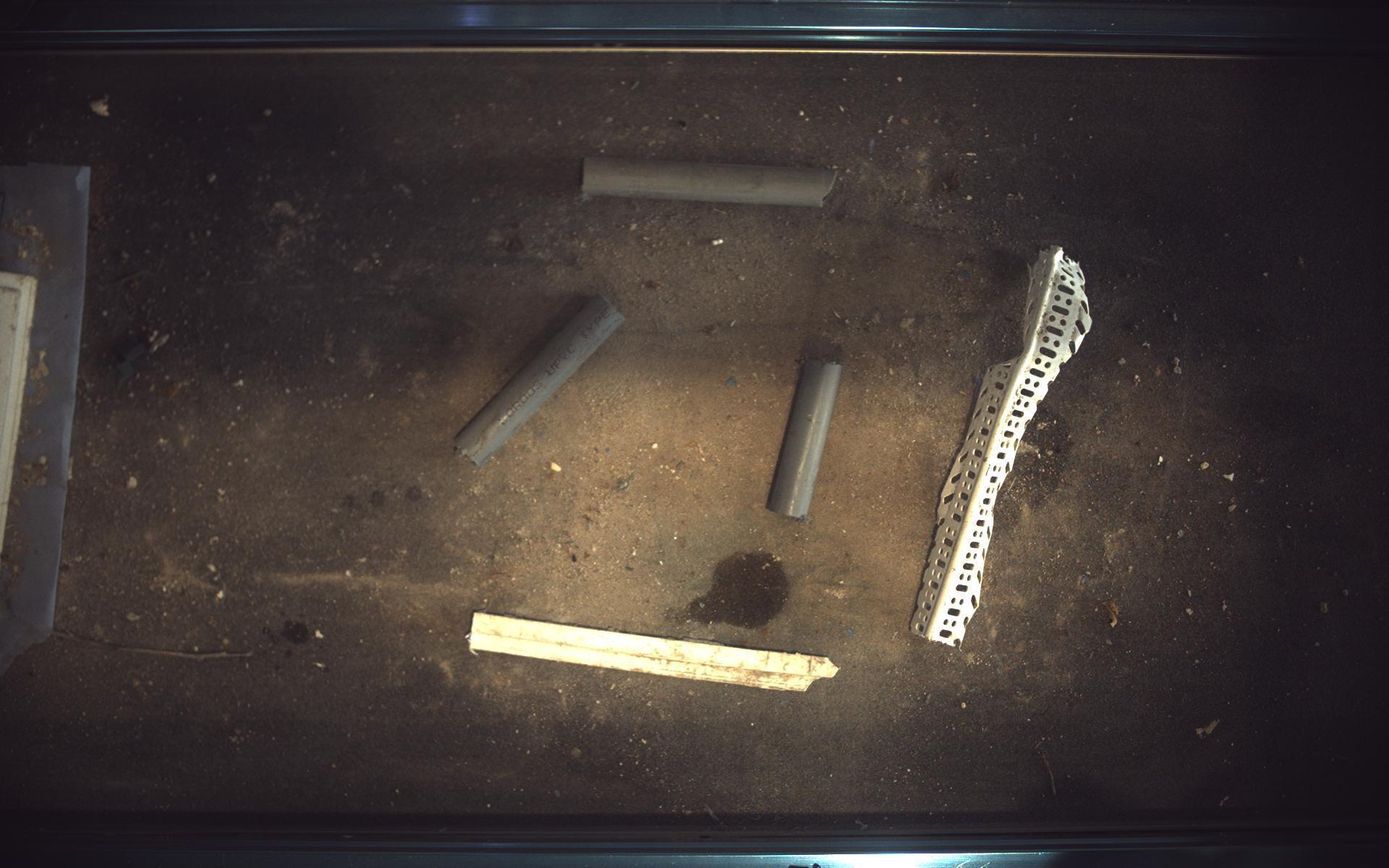pipes: (456, 295, 624, 467), (582, 156, 838, 206), (768, 359, 844, 520)
plastic: (912, 246, 1093, 647), (469, 613, 840, 692), (1, 272, 35, 553)
